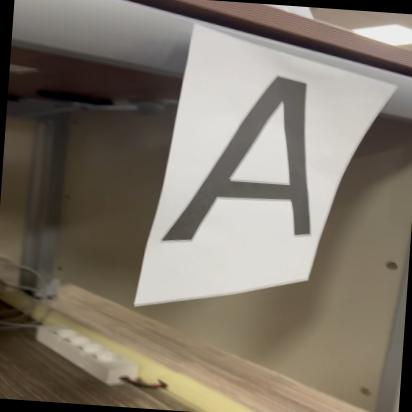seat: (154, 58, 337, 256)
